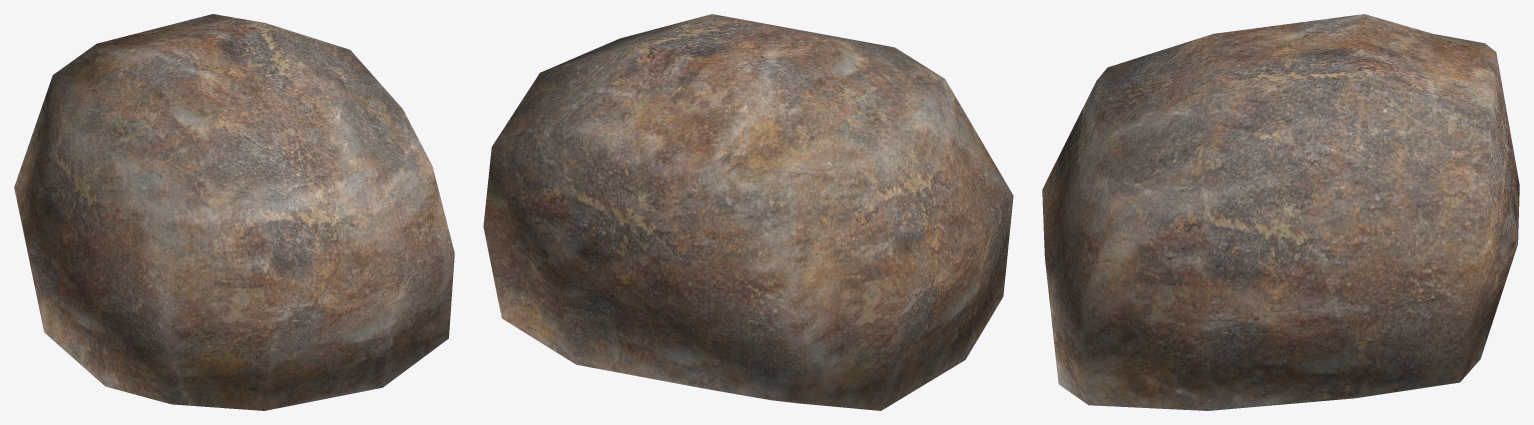
File: astroid4.glb
3 views of the same model, side by side, from view 1: azimuth 30°, elevation 25°; view 2: azimuth 150°, elevation 25°; view 3: azimuth 270°, elevation 25° (orthographic). The views are drawn at different scales.
Parts seen in each view (by area): view 1: Rock - River Stone Low-poly.001; view 2: Rock - River Stone Low-poly.001; view 3: Rock - River Stone Low-poly.001.
Boxes of the visible parts, bbox=[...] form: Rock - River Stone Low-poly.001: bbox=[14, 14, 454, 410]; Rock - River Stone Low-poly.001: bbox=[483, 14, 1013, 410]; Rock - River Stone Low-poly.001: bbox=[1042, 14, 1519, 410].
Size of the model in its own units: 0.236 by 0.191 by 0.2451.
Materials: 1 (1 with a texture image).
